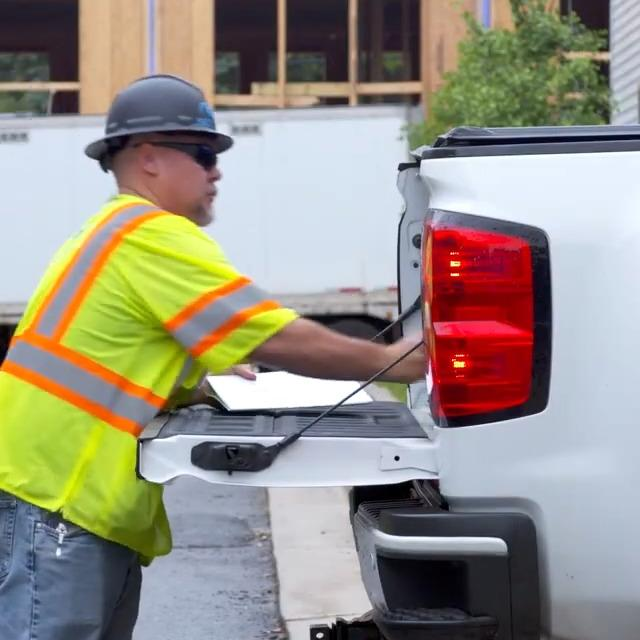Hardhat: (83, 74, 235, 159)
NO-Mask: (153, 171, 217, 219)
Person: (0, 72, 422, 640)
Safety Vest: (0, 200, 287, 443)
trailer: (0, 100, 424, 384)
vehicle: (134, 120, 640, 640)
